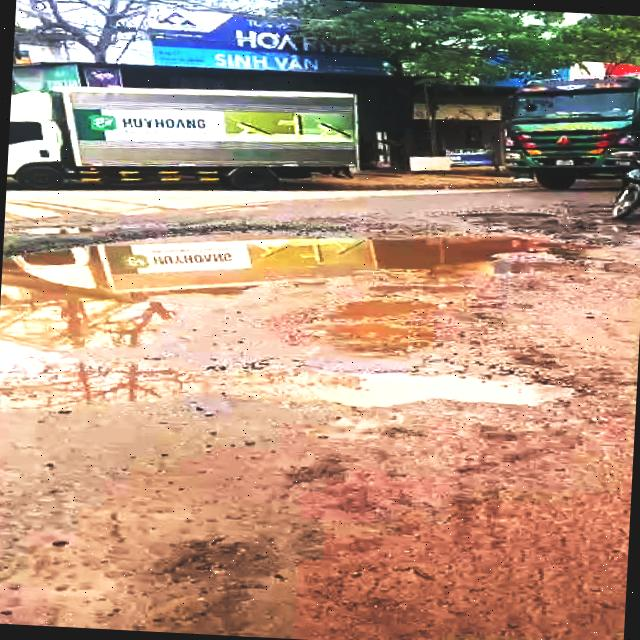pothole: (0, 188, 630, 421)
